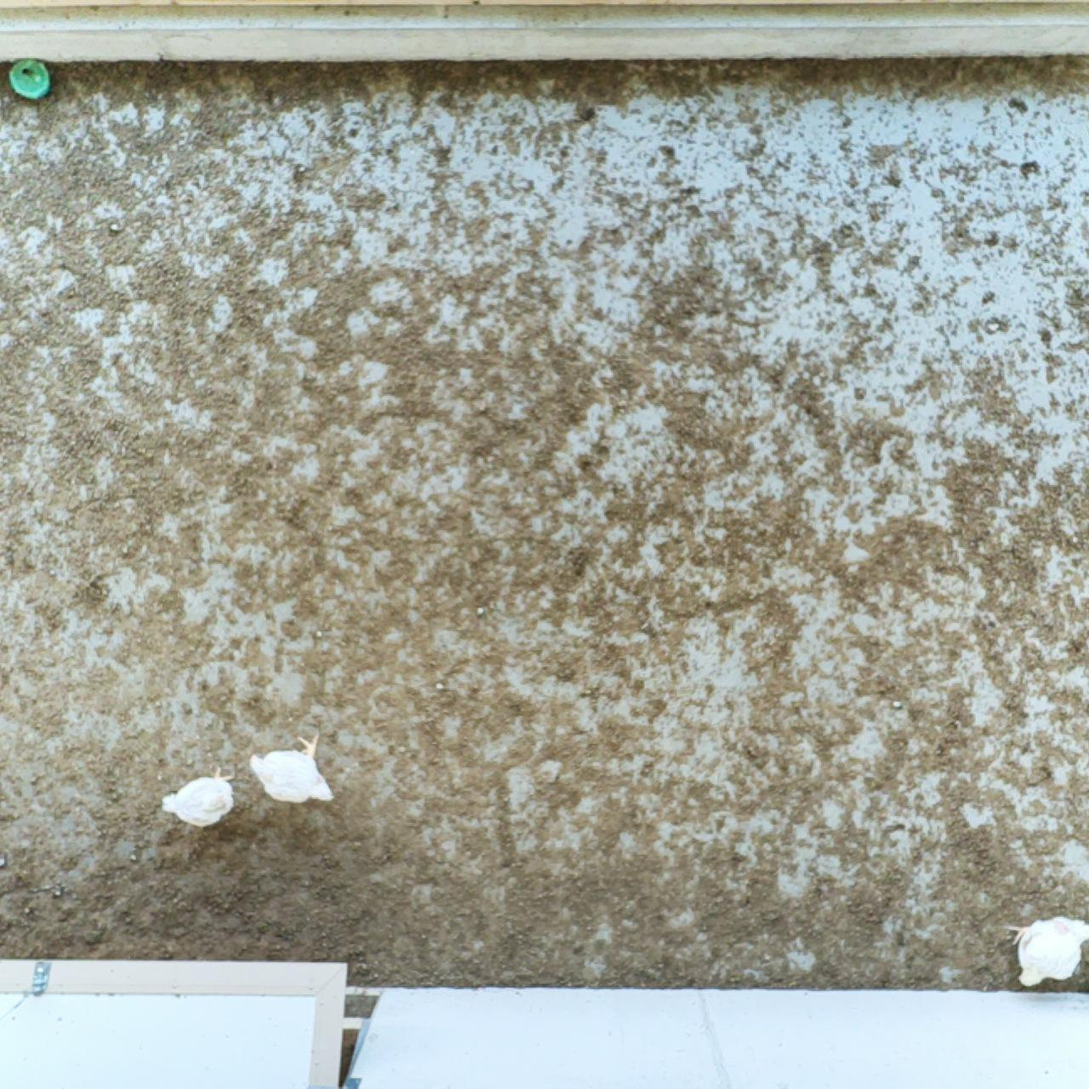chicken: (239, 731, 340, 809), (1001, 909, 1089, 989), (154, 764, 240, 833)
